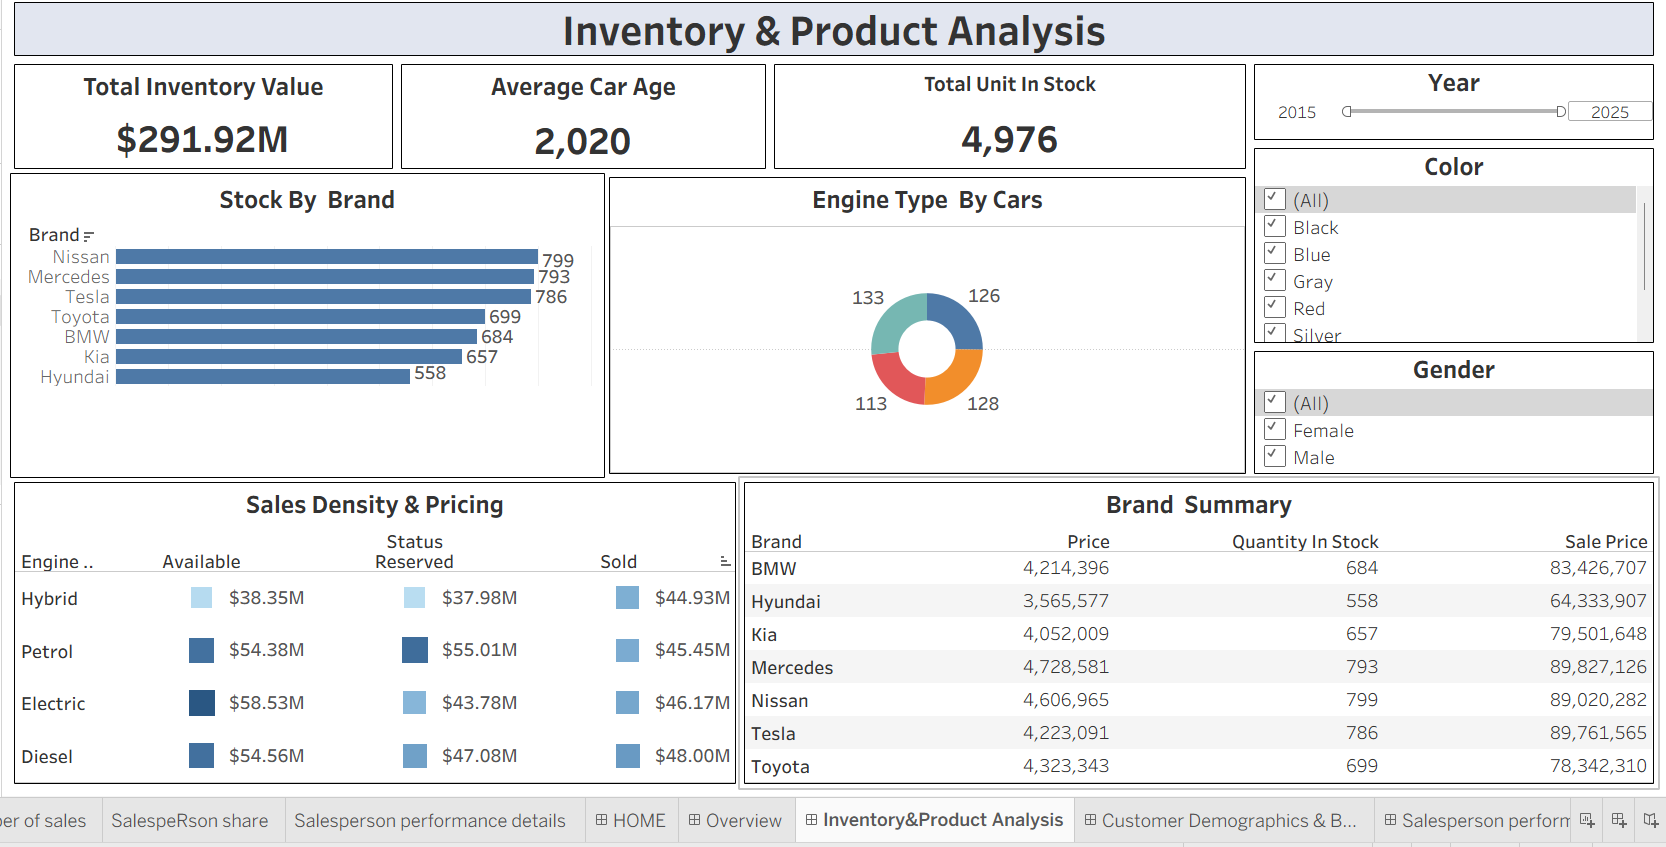

This screenshot's page, from the dashboard's own definition file:
{"tool":"tableau","page":{"name":"Inventory&Product Analysis","canvas":[1000,1000],"units":"permille","ordinal":2},"visuals":[{"type":"title","box":[4.8,9.9,990.4,76.9]},{"type":"worksheet","title":"Total inventary value","mark":"Automatic","box":[4.8,86.9,232.8,140.1]},{"type":"worksheet","title":"Average Car Age","mark":"Automatic","box":[237.6,86.9,223.9,140.1]},{"type":"worksheet","title":"Total Unit In Stock","mark":"Automatic","box":[461.5,86.9,288.5,140.1]},{"type":"filter","title":"Stock by brand","param":"[federated.1b1klsr0mw01x615c70iu1gsuma9].[none:Year:qk]","box":[750,86.9,245.2,104.2]},{"type":"filter","title":"Engine Type By Cars","param":"[federated.1b1klsr0mw01x615c70iu1gsuma9].[none:Color:nk]","box":[750,191.1,245.2,251.8]},{"type":"worksheet","title":"Engine Type By Cars","mark":"Pie","rows":["Calculation_0398898182758417","Calculation_0398898182807571"],"box":[362.6,227,387.4,378.5]},{"type":"worksheet","title":"Stock by brand","mark":"Automatic","rows":["Brand"],"cols":["Quantity_In_Stock"],"box":[5.4,228.2,356.6,268]},{"type":"filter","title":"Engine Type By Cars","param":"[federated.1b1klsr0mw01x615c70iu1gsuma9].[none:Gender:nk]","box":[750,442.9,245.2,162.5]},{"type":"worksheet","title":"Sales Density & Pricing","mark":"Square","rows":["Engine_Type"],"cols":["Status"],"box":[4.8,605.5,438.6,384.6]},{"type":"worksheet","title":"Brand  Summary","mark":"Automatic","rows":["Brand"],"box":[443.4,605.5,551.7,384.6]}]}

Visuals, with their boxes on the dashboard's canvas, which has no fixed pixel size, in thousandths of its width and height (x1, y1, x2, y2). These are canvas units, not pixel positions in the 1666x847 screenshot, which may show the page scaled, cropped or inside an application window:
title: bbox(5, 10, 995, 87)
"Total inventary value" worksheet: bbox(5, 87, 238, 227)
"Average Car Age" worksheet: bbox(238, 87, 462, 227)
"Total Unit In Stock" worksheet: bbox(462, 87, 750, 227)
"Stock by brand" filter: bbox(750, 87, 995, 191)
"Engine Type By Cars" filter: bbox(750, 191, 995, 443)
"Engine Type By Cars" worksheet (Pie marks): bbox(363, 227, 750, 606)
"Stock by brand" worksheet: bbox(5, 228, 362, 496)
"Engine Type By Cars" filter: bbox(750, 443, 995, 605)
"Sales Density & Pricing" worksheet (Square marks): bbox(5, 606, 443, 990)
"Brand  Summary" worksheet: bbox(443, 606, 995, 990)
